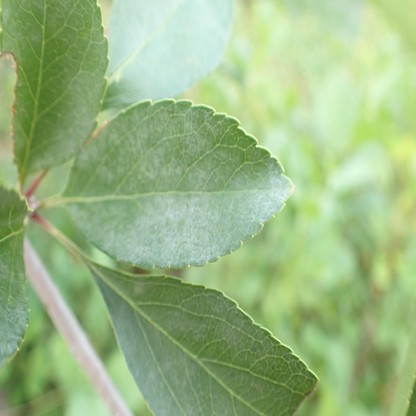powder: (66, 98, 295, 268), (111, 277, 267, 416), (29, 76, 105, 173), (0, 249, 31, 361), (1, 0, 40, 65)
